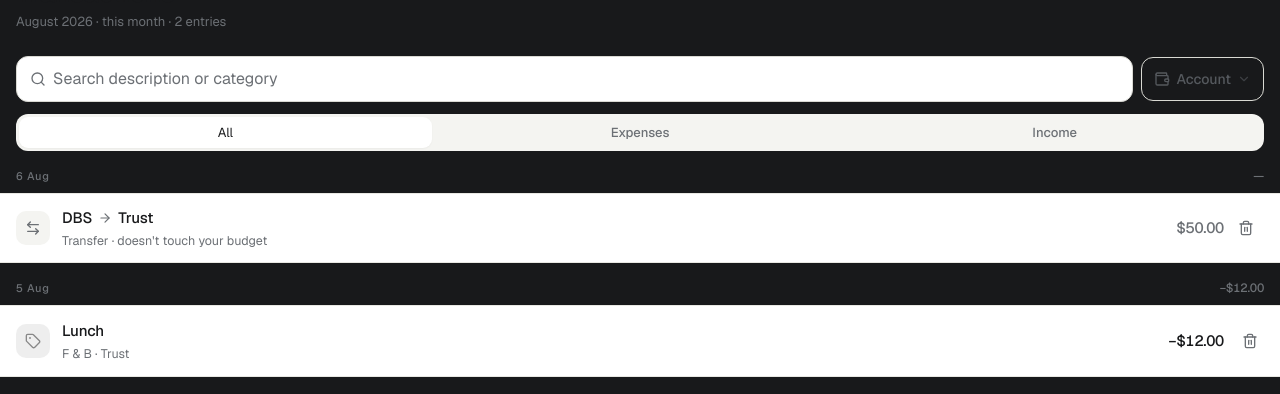
transfers in the ledger › hides transfers under the Expenses and Income filters
The width and height of the screenshot is (1280, 394).
Check: the text "$50.00" is shown, box [1176,217,1224,239]
Step 1. Click the button "Expenses" → (640, 132), box [434,116,846,148]
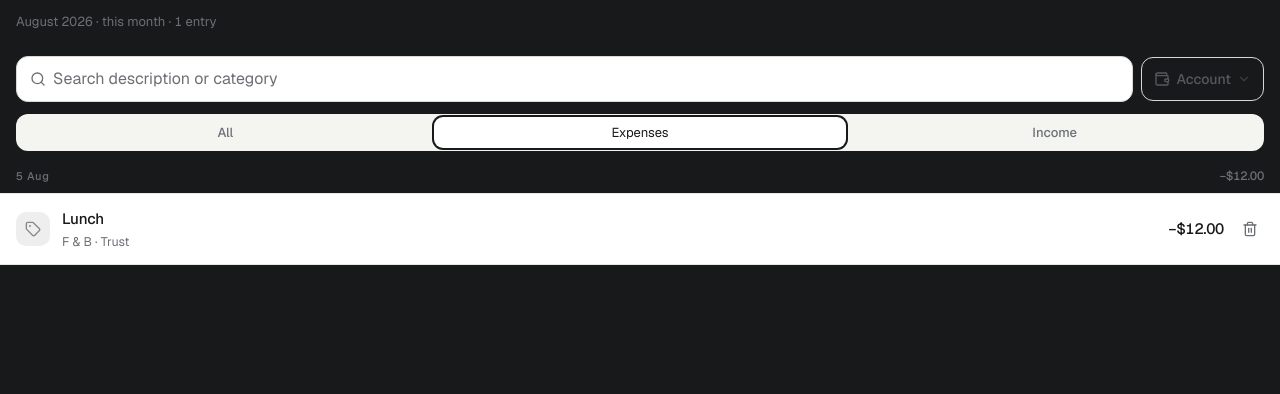
Check: the text "Lunch" is shown, box [62,208,104,230]
Check: the text "$50.00" is gone
